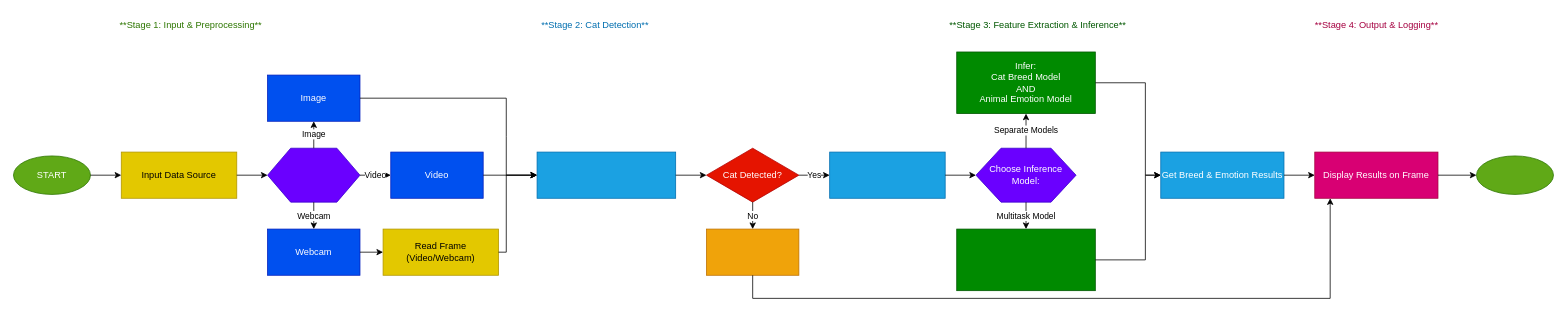
Some shapes in this 1567 by 318 pixel diagram are drawn without their labels. The shapes that lost their labels are listed below. From the top down, each one's centre as x and y in pixels, then its label:
At (x=313, y=174): "Choose Source:".
At (x=606, y=174): "YOLOv12 Detection & Tracking (Cats)".
At (x=887, y=174): "Crop Cat Bounding Boxes".
At (x=1514, y=174): "END".
At (x=752, y=251): "No Cat Detected".
At (x=1025, y=259): "Infer: Multitask Model (Breed & Emotion)".
